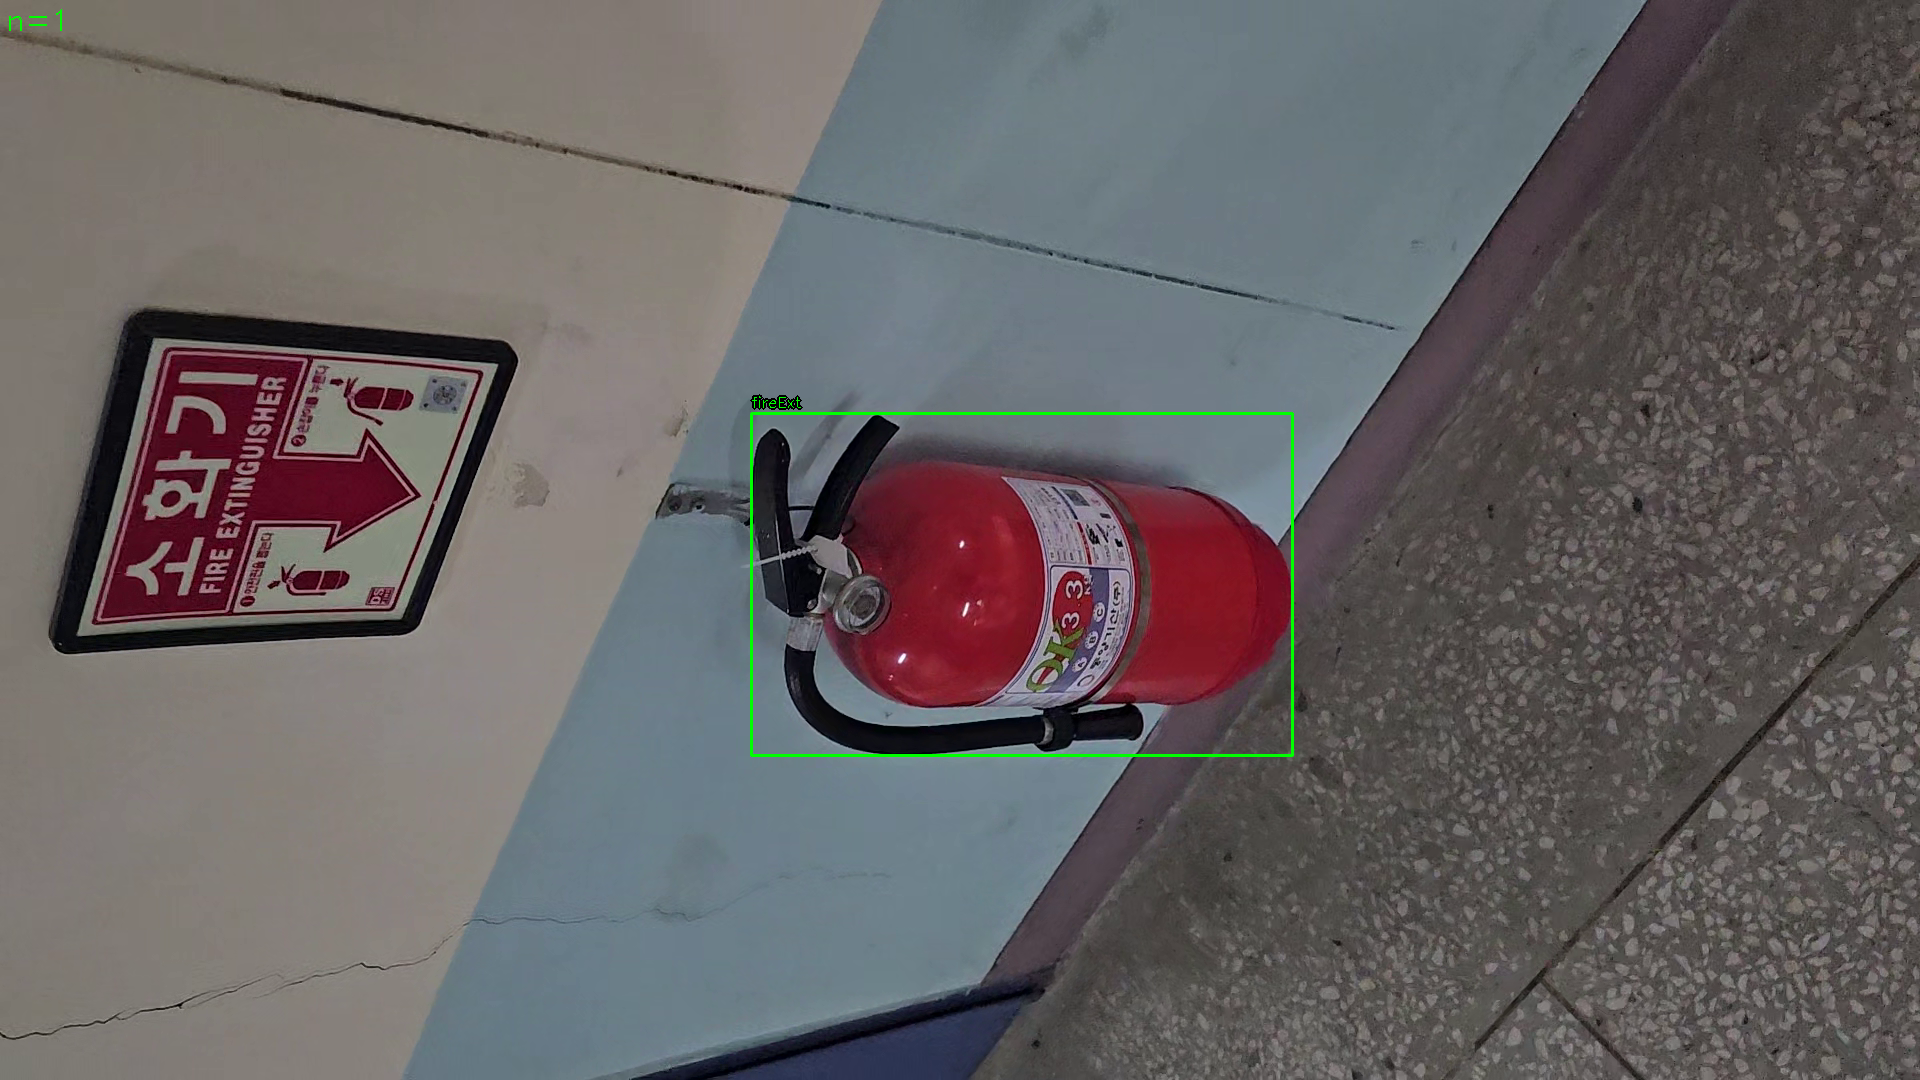lane: (752, 413, 1294, 756)
